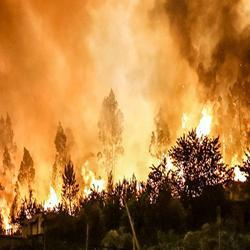fire: (199, 112, 215, 142), (230, 158, 248, 178), (86, 177, 104, 194), (44, 188, 58, 209)
